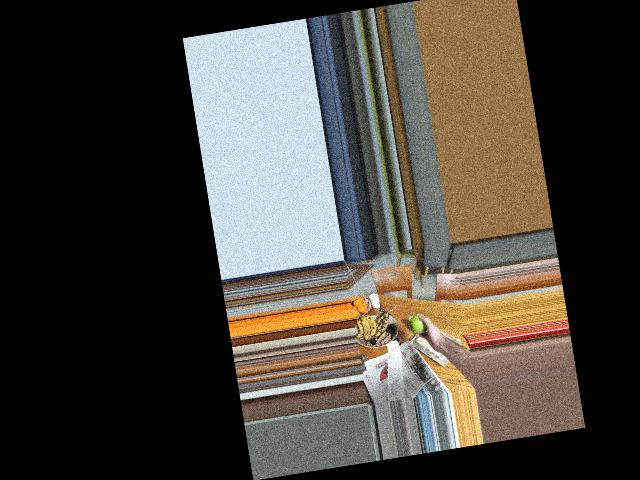apple: (407, 311, 431, 338)
